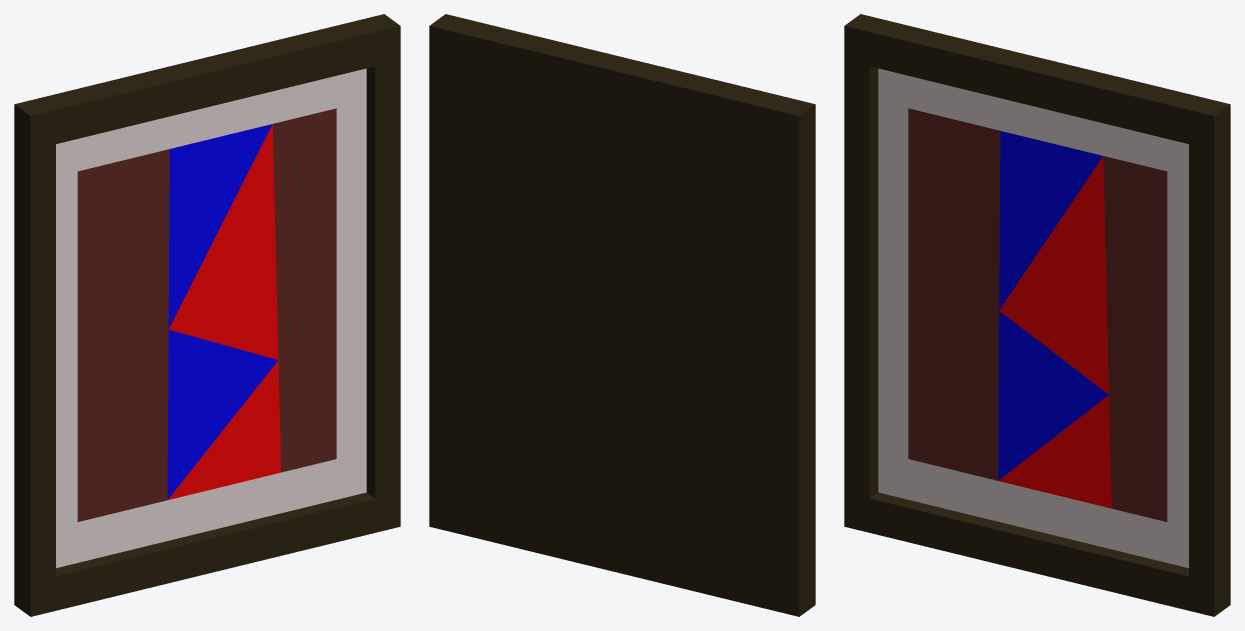
Rendered from Prop_Paint_07.fbx.
3 views of the same model, side by side, from view 1: azimuth 30°, elevation 25°; view 2: azimuth 150°, elevation 25°; view 3: azimuth 330°, elevation 25° (orthographic).
Parts seen in each view (by area): view 1: Prop_Paint_07; view 2: Prop_Paint_07; view 3: Prop_Paint_07.
Part boxes in pixels (left/top/right/bottom): Prop_Paint_07: left=14, top=14, right=400, bottom=616; Prop_Paint_07: left=429, top=14, right=815, bottom=616; Prop_Paint_07: left=844, top=14, right=1230, bottom=616.
Size of the model in its own units: 35.58 by 46.05 by 2.7.
